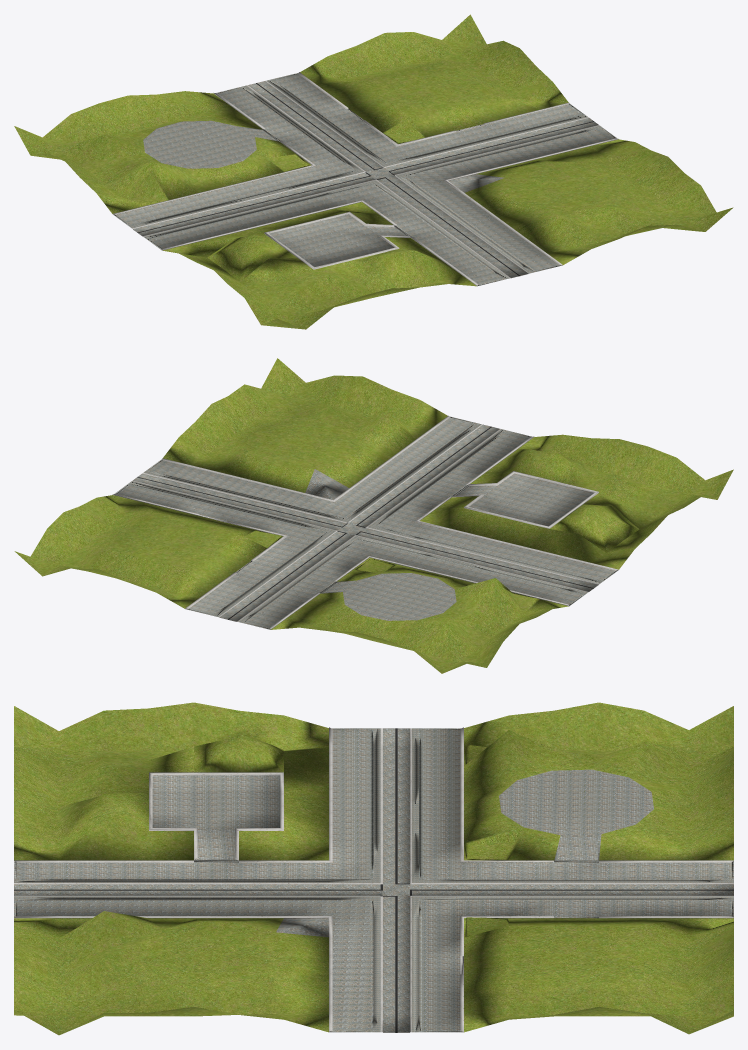
3 renders of one model, top to bottom at view 1: azimuth 30°, elevation 25°; view 2: azimuth 150°, elevation 25°; view 3: azimuth 270°, elevation 25°, orthographic. The views are drawn at different scales.
Visible parts, largest first — view 1: Plane; view 2: Plane; view 3: Plane.
Part boxes in pixels (x1,y1,x2,y2): Plane: [14, 14, 733, 329]; Plane: [14, 358, 733, 673]; Plane: [14, 702, 733, 1035].
Bounding box in the file's own units: 272 × 16.4 × 272.
Materials: 5 (4 with a texture image).
